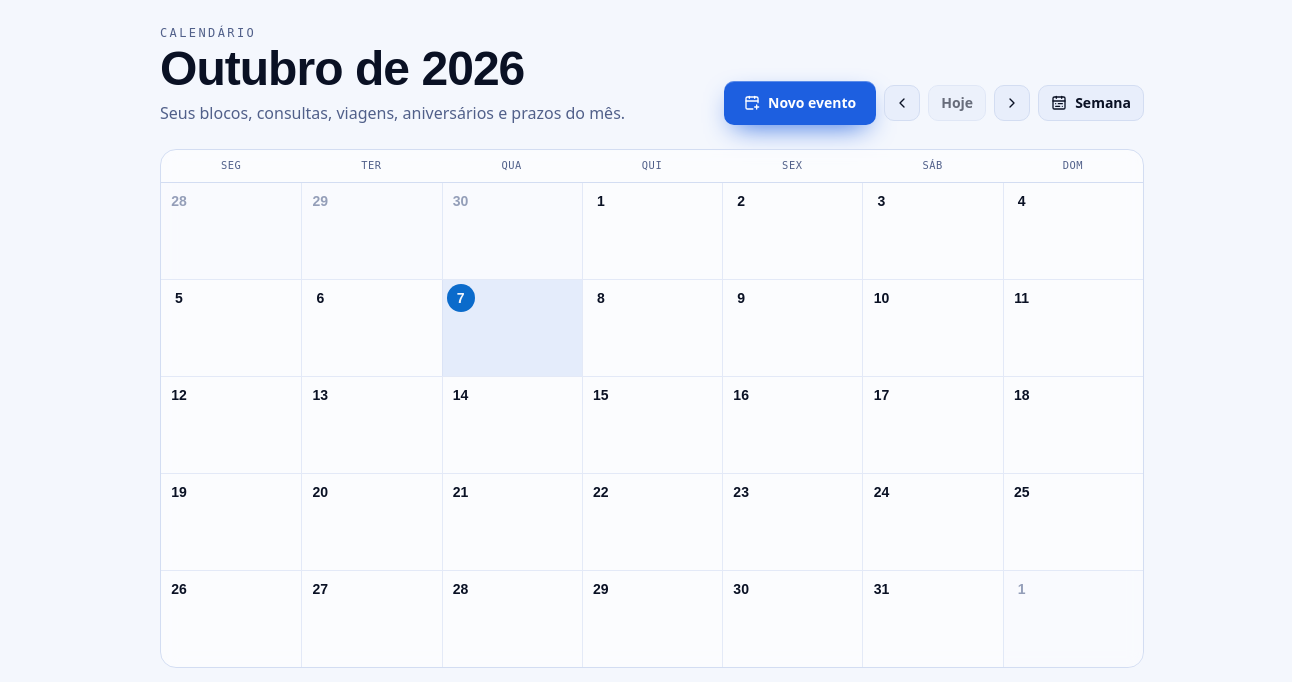
Test: CalendarPage (visão mensal, RF34) › navegação entre meses › trocar de mês descarta o dia escolhido no mês anterior
Click the button named "sexta-feira, 9 de outubro": (741, 298) [727,284,755,312]
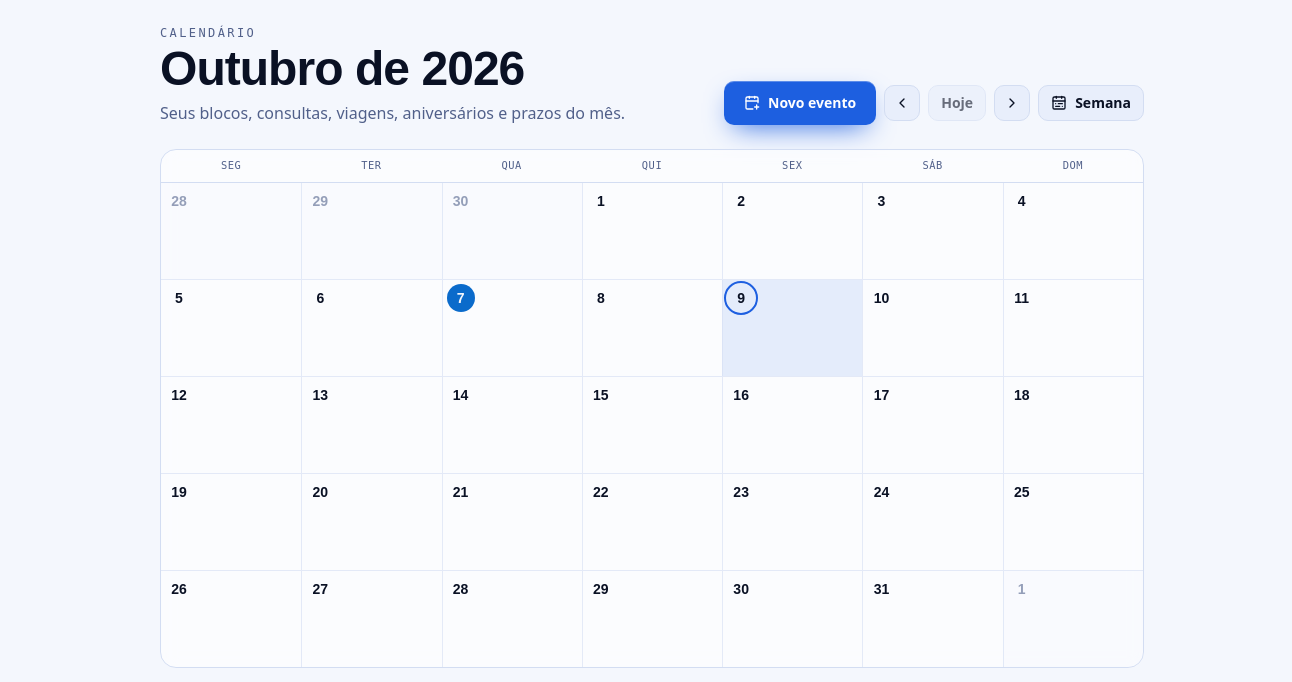
Click the button named "Próximo mês": (1012, 103) [994,85,1030,121]
(page scrolled)
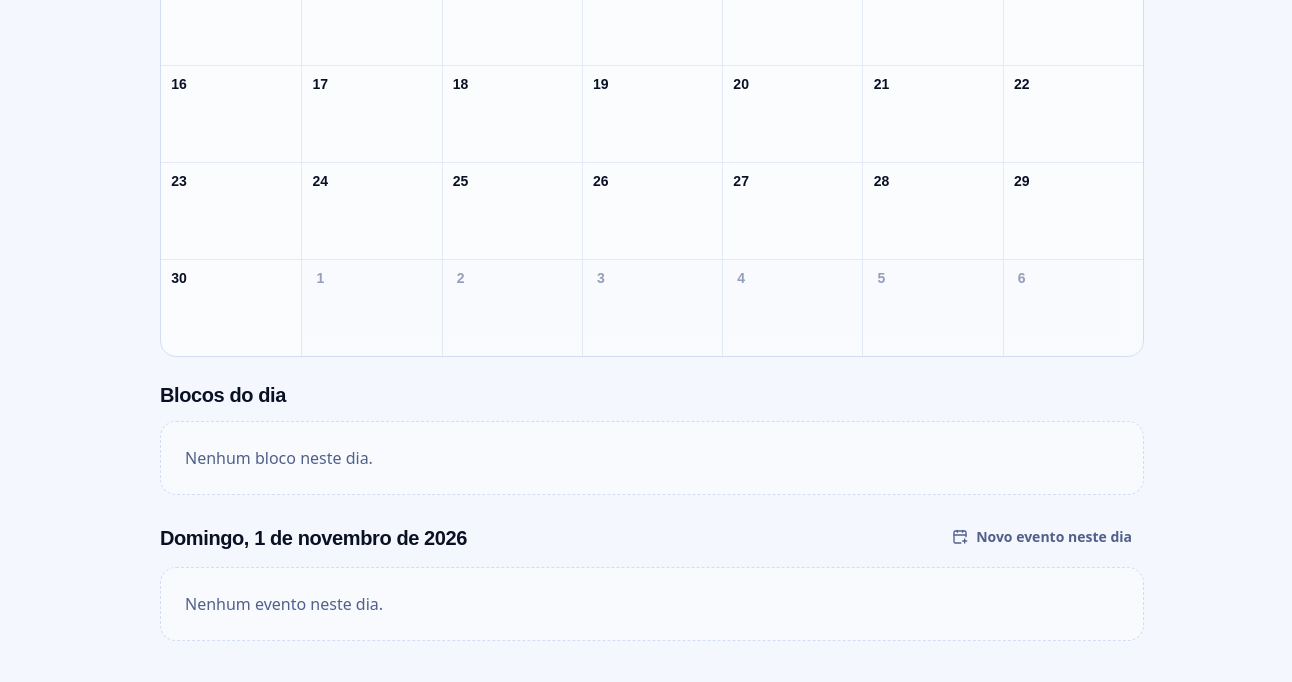
Expected: the heading "Domingo, 1 de novembro de 2026" is shown, [160,524,467,552]
